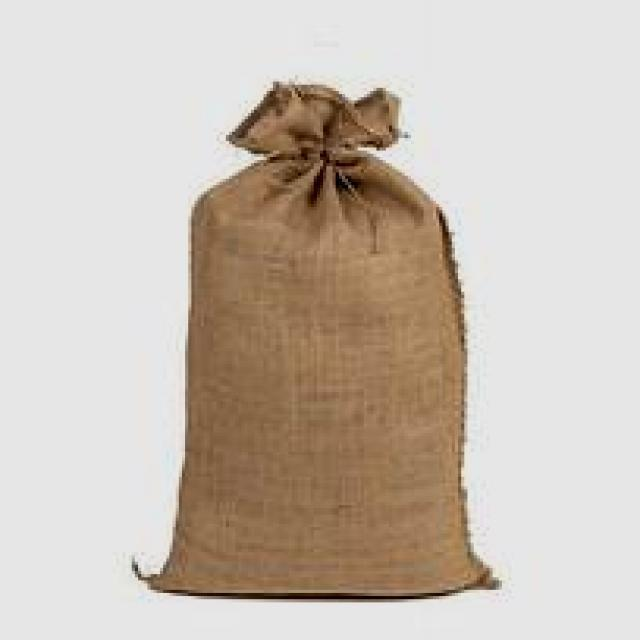gunny_bag: (133, 88, 511, 602)
